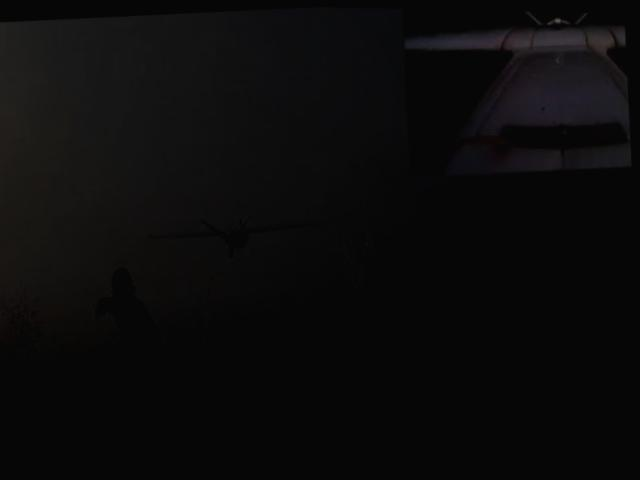iha: (139, 206, 331, 267)
